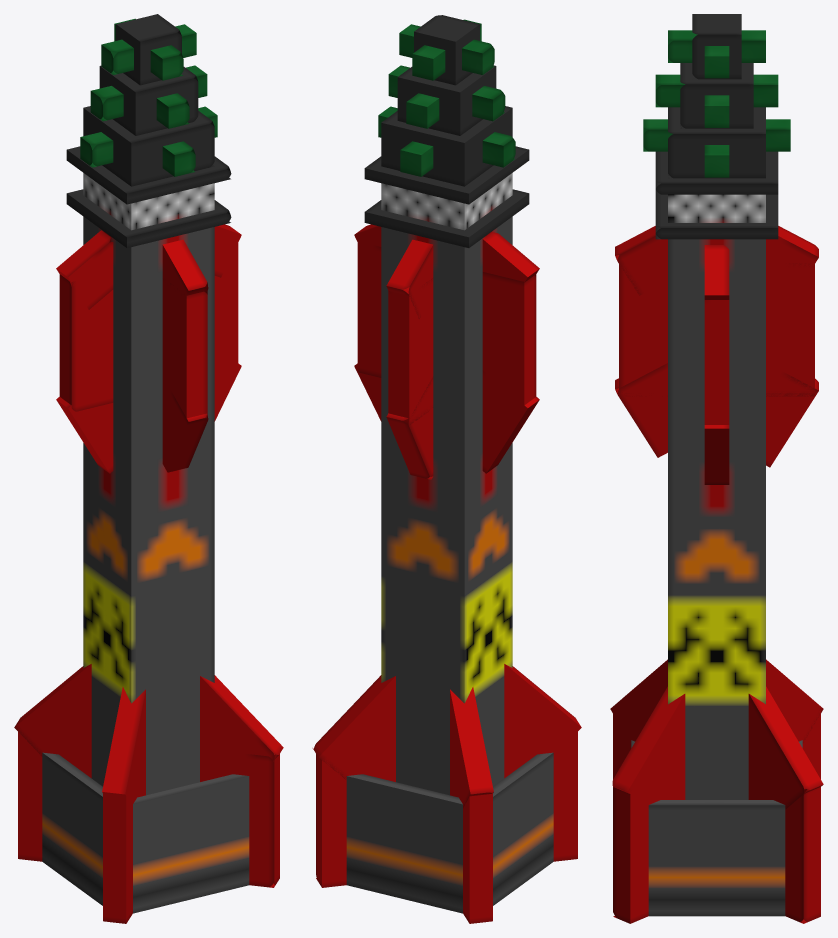
Rendered from missile_contagion.obj.
The picture shows the model from 3 angles, left to right: view 1: azimuth 30°, elevation 25°; view 2: azimuth 150°, elevation 25°; view 3: azimuth 270°, elevation 25°; orthographic projection.
Parts seen in each view (by area): view 1: Shape1, Shape2, Shape3a, Shape3c, Shape5a, Shape2c, Shape7, Shape5, Shape3, Shape3b, Shape7a, Shape6a (+14 smaller); view 2: Shape1, Shape2a, Shape3, Shape5a, Shape3b, Shape2c, Shape5, Shape7, Shape3a, Shape3c, Shape7a, Shape6a (+13 smaller); view 3: Shape1, Shape2b, Shape5, Shape3b, Shape3c, Shape3a, Shape3, Shape7, Shape7a, Shape5a, Shape4g, Shape4a (+13 smaller).
Boxes of the visible parts, x1,y1,x2,y2 form: Shape1: (83,173,214,795); Shape2: (133,774,249,913); Shape3a: (18,728,279,887); Shape3c: (14,664,283,779); Shape5a: (59,243,238,411); Shape2c: (42,752,102,905); Shape7: (83,106,214,186); Shape5: (162,279,207,418); Shape3: (103,793,132,923); Shape3b: (102,687,145,808); Shape7a: (99,65,198,135); Shape6a: (66,189,231,247); Shape1: (381,173,512,795); Shape2a: (346,774,462,913); Shape3: (316,728,577,887); Shape5a: (357,241,536,405); Shape3b: (312,664,581,781); Shape2c: (493,752,553,905); Shape5: (388,278,433,425); Shape7: (381,106,512,186); Shape3a: (450,763,492,923); Shape3c: (450,687,493,808); Shape7a: (397,65,496,135); Shape6a: (364,189,529,247); Shape1: (668,194,765,799); Shape2b: (648,800,785,916); Shape5: (619,255,814,396); Shape3b: (610,659,823,809); Shape3c: (612,659,823,809); Shape3a: (613,710,820,923); Shape3: (613,710,820,923); Shape7: (668,107,765,178); Shape7a: (680,63,753,128); Shape5a: (704,300,729,424); Shape4g: (766,363,818,467); Shape4a: (615,363,667,457).
Size of the model in its own units: 1.09 by 4.81 by 1.09.
